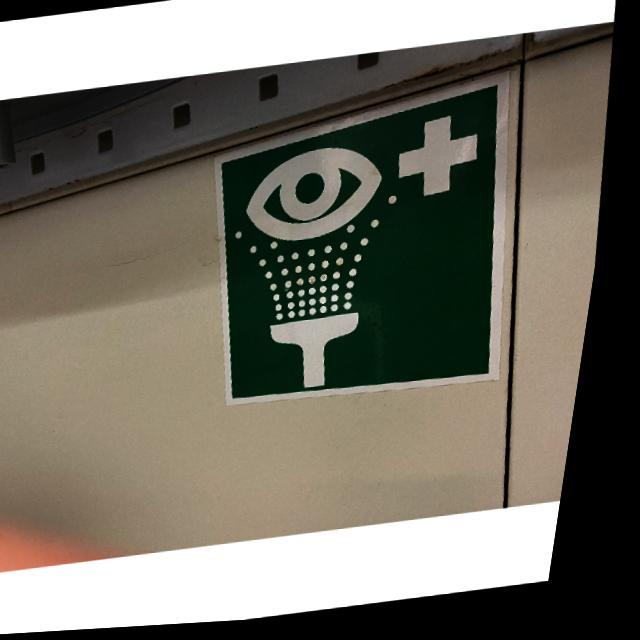eye shower: (183, 73, 549, 423)
